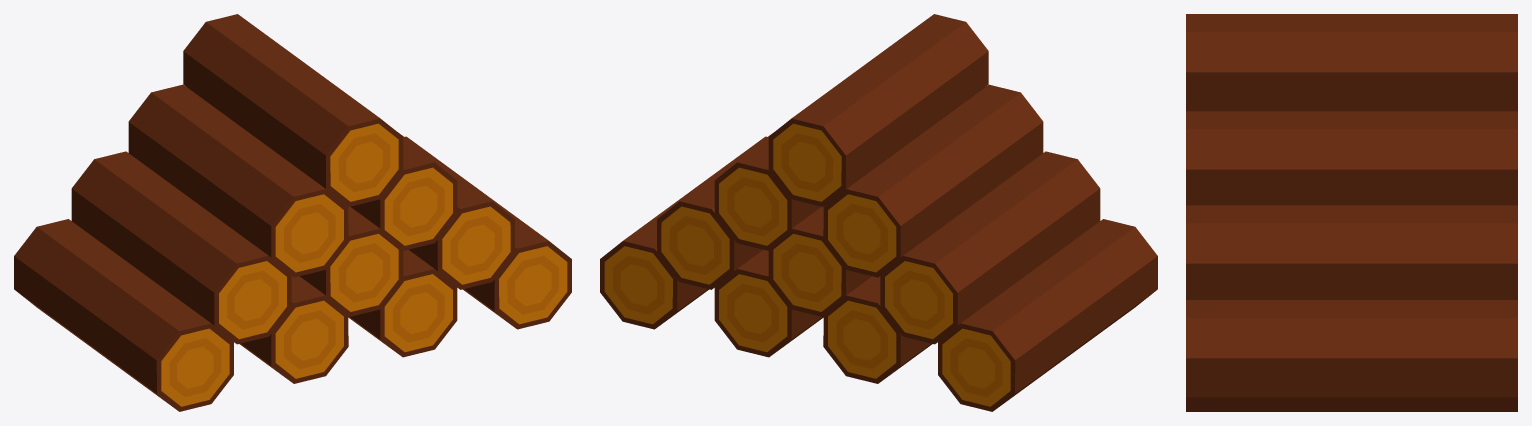
Rendered from Small Log_28.fbx.
3 views of the same model, side by side, from view 1: azimuth 30°, elevation 25°; view 2: azimuth 150°, elevation 25°; view 3: azimuth 270°, elevation 25° (orthographic). The views are drawn at different scales.
Parts seen in each view (by area): view 1: Circle.451; view 2: Circle.451; view 3: Circle.451.
Boxes of the visible parts, x1,y1,x2,y2 form: Circle.451: [14, 14, 571, 411]; Circle.451: [600, 14, 1157, 411]; Circle.451: [1186, 14, 1517, 411].
Bounding box in the file's own units: 39.52 × 22.24 × 23.54.
